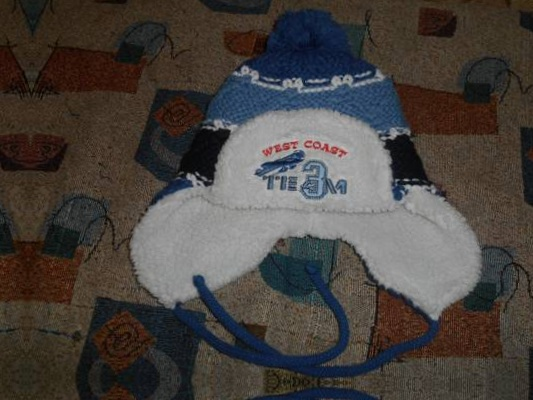Hat: (112, 3, 511, 343)
